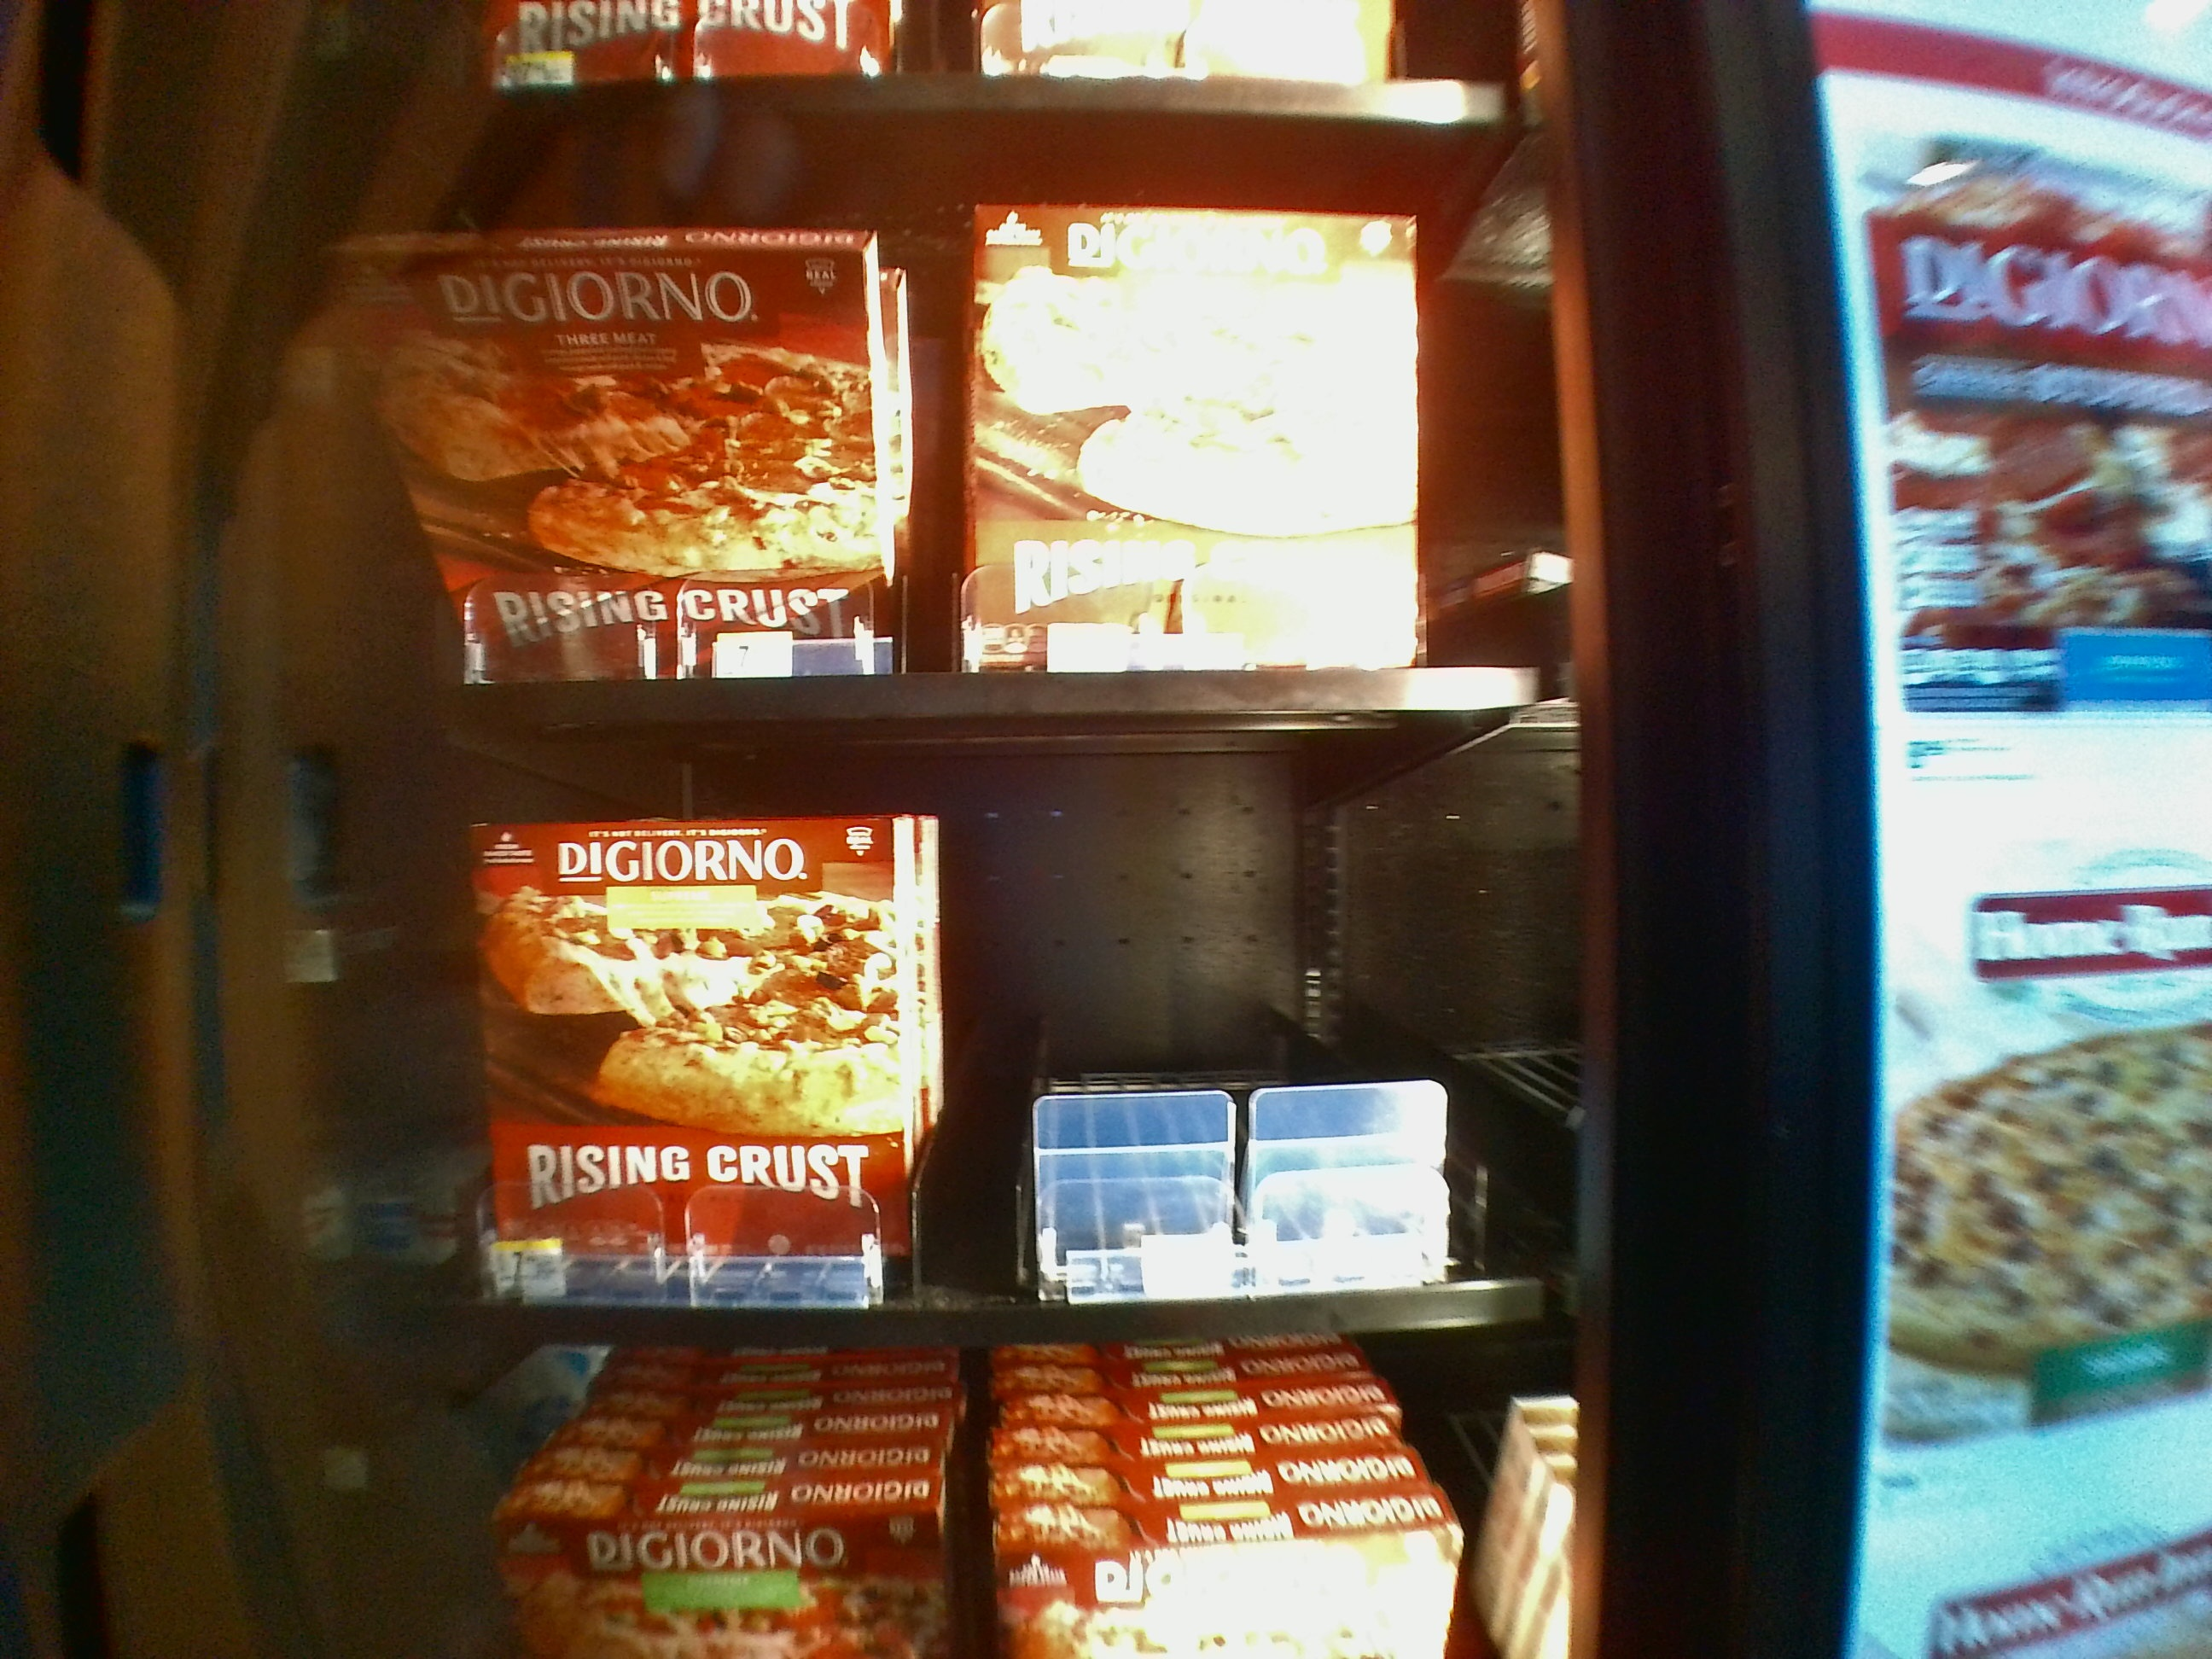shelf: (425, 725, 1566, 1345), (387, 145, 1554, 727)
